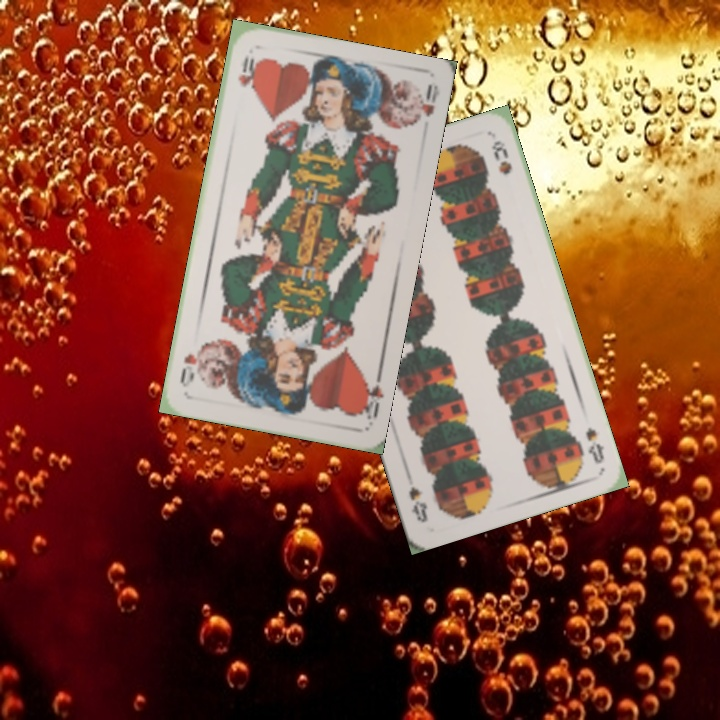HO: (354, 367, 386, 426), (233, 52, 259, 90)
S8: (581, 423, 607, 467)
